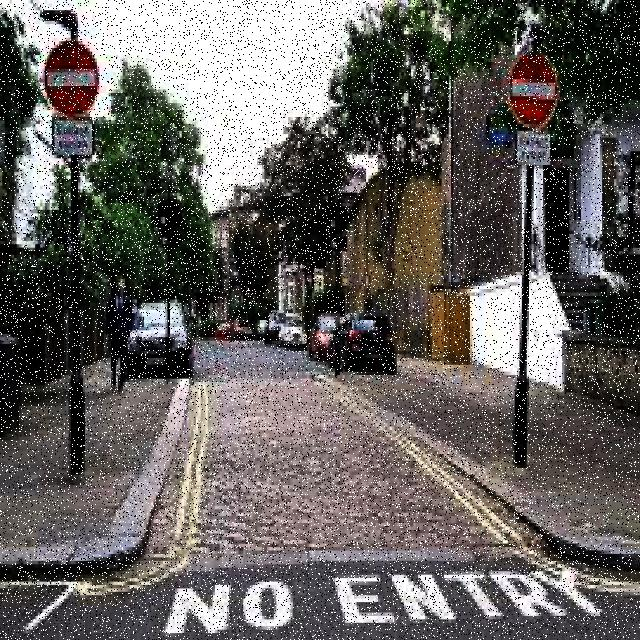no entry: (45, 38, 94, 113), (512, 52, 550, 127)
